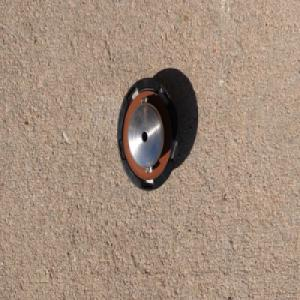FuelCap: (115, 75, 180, 194)
